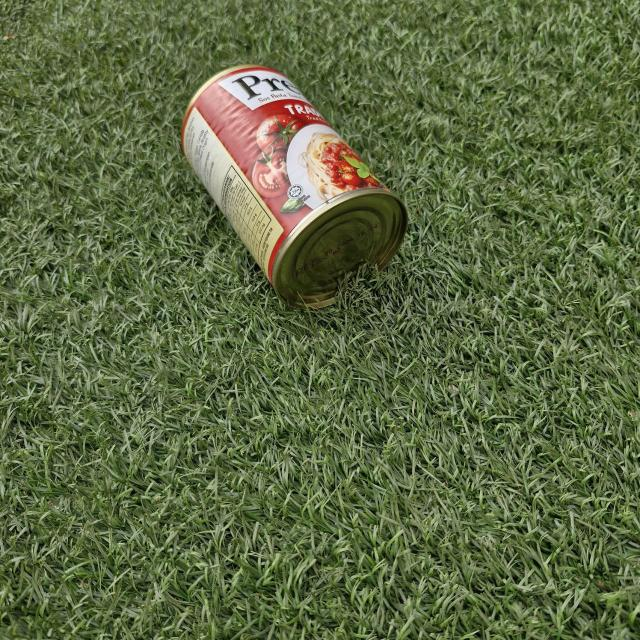metal: (168, 53, 418, 307)
